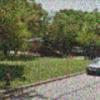cars: (86, 57, 100, 76)
